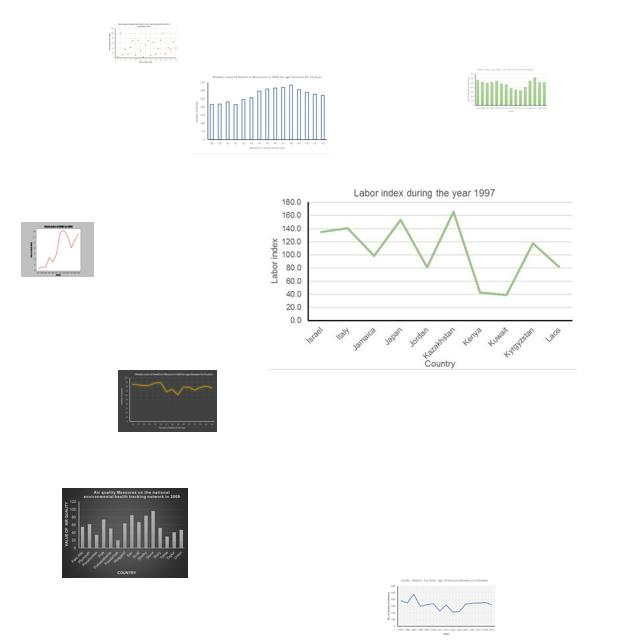Graph: (269, 184, 577, 370), (62, 488, 188, 578), (192, 72, 330, 154), (385, 577, 497, 638), (118, 370, 217, 432), (21, 222, 94, 277), (465, 67, 549, 113), (108, 22, 178, 64)
